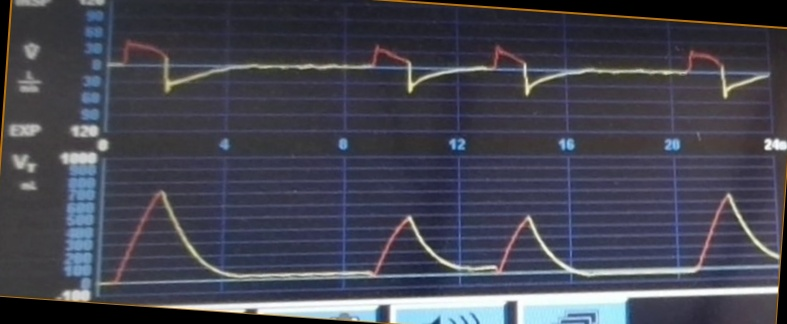Normal Flow: (110, 32, 768, 127)
Normal Volume: (107, 184, 778, 282)
